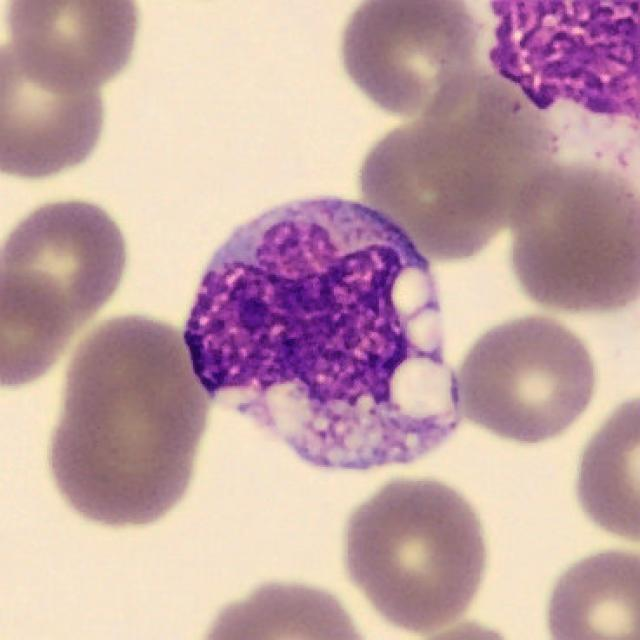Monocito: (183, 197, 461, 472)
